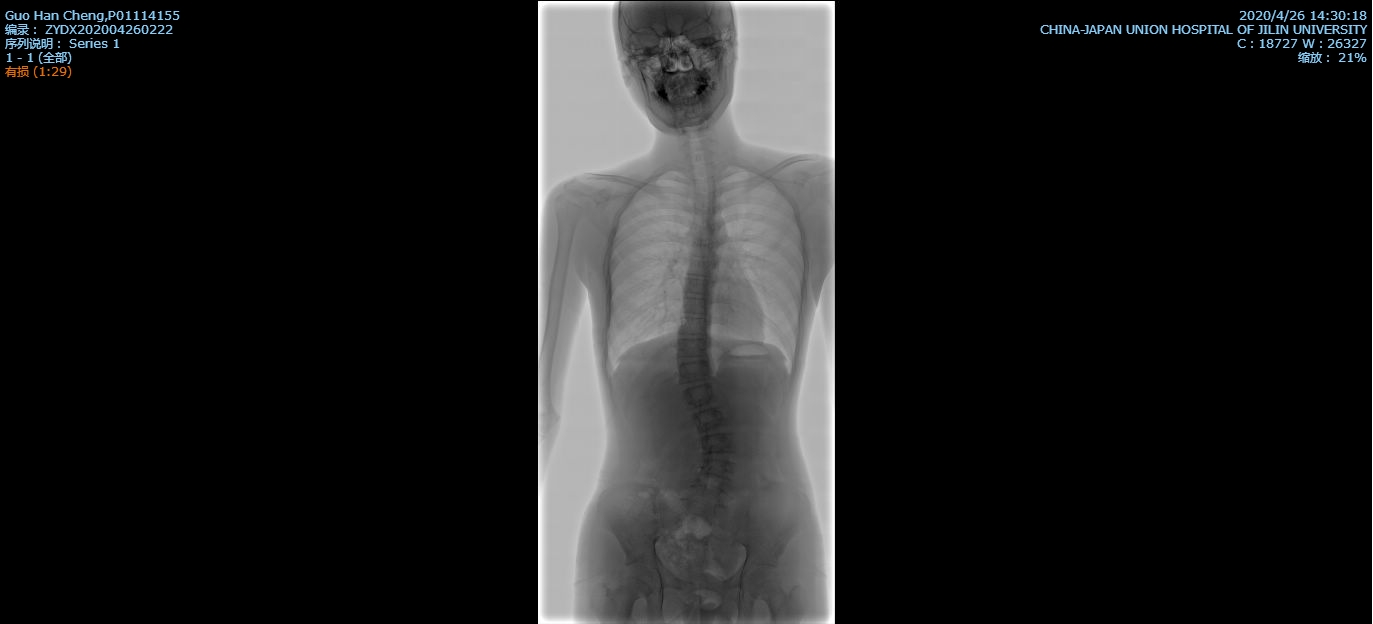Bone: (688, 483, 724, 506), (677, 360, 711, 383), (683, 383, 712, 404), (701, 456, 732, 475), (701, 433, 733, 451), (677, 339, 708, 357), (696, 412, 725, 427), (678, 319, 706, 334), (683, 298, 707, 313), (691, 242, 712, 259), (683, 278, 706, 293), (687, 260, 709, 274)
